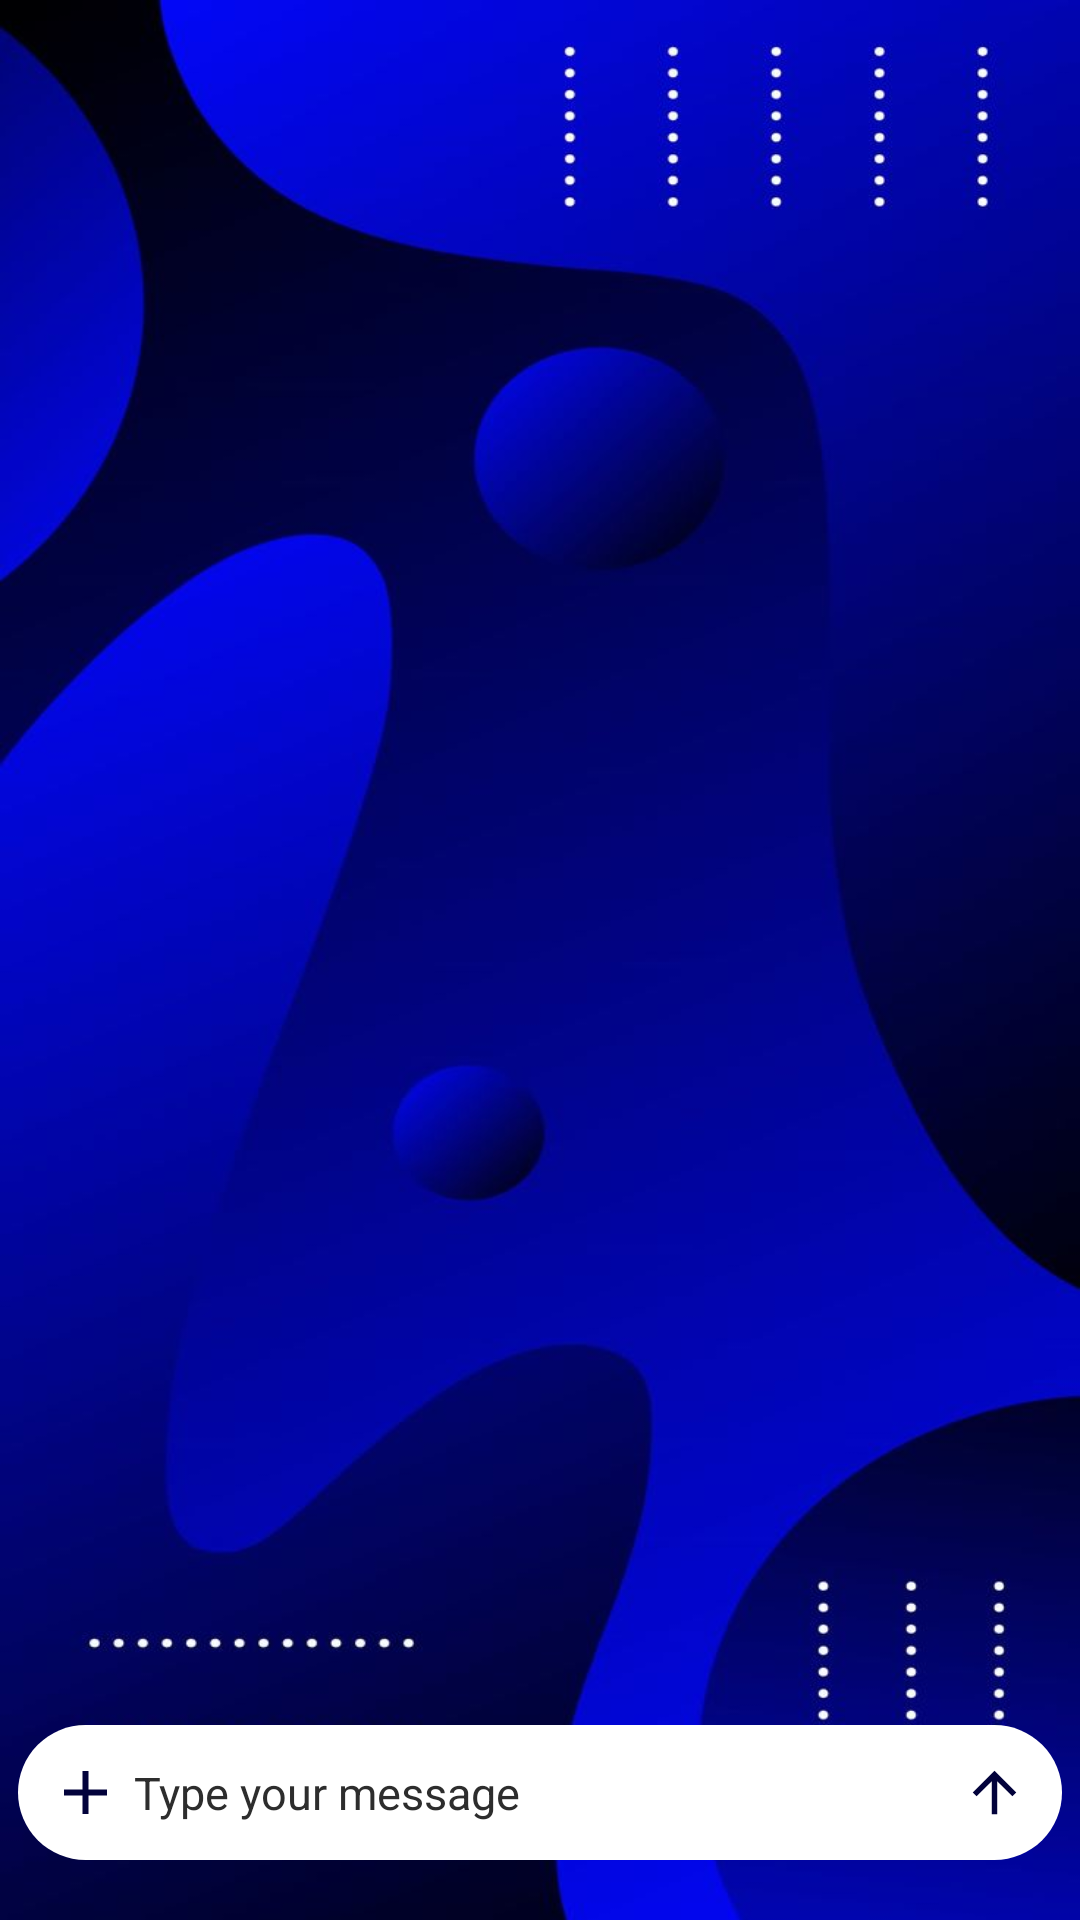

Named icons in this screenshot (1080px×1920px) and their bounding boxes, (x1, y1, x2, y2):
plus: (64, 1771, 107, 1814)
send: (973, 1771, 1016, 1815)
